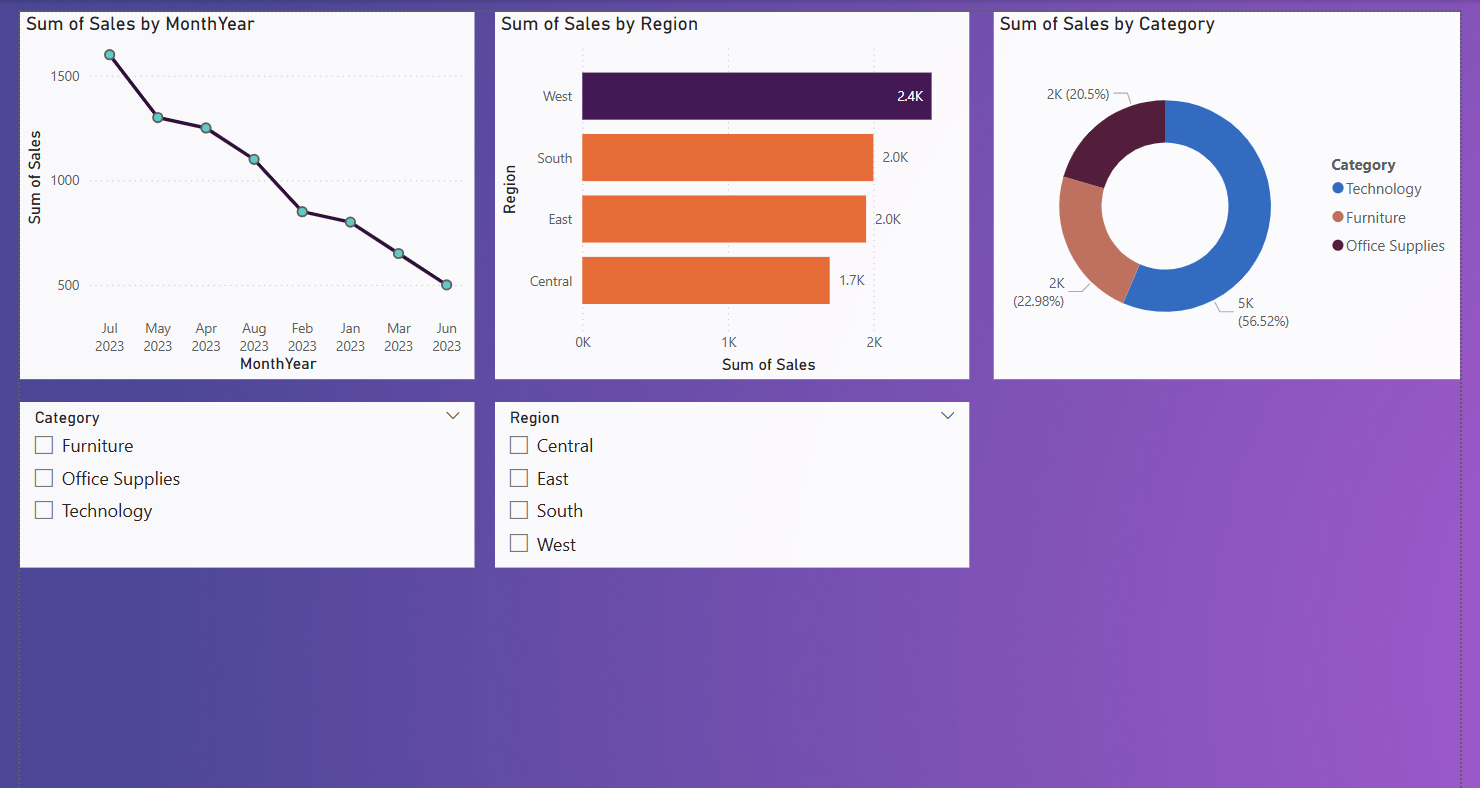

What the dashboard file says about the page in this screenshot:
{"tool":"powerbi","page":{"name":"Page 1","canvas":[1280,720],"ordinal":0},"visuals":[{"type":"lineChart","fields":{"Category":["Superstore_Sales.MonthYear"],"Y":["Sum(Superstore_Sales.Sales)"]},"box":[19.8,34.9,379.1,233.7],"z":0},{"type":"clusteredBarChart","fields":{"Category":["Superstore_Sales.Region"],"Y":["Sum(Superstore_Sales.Sales)"]},"box":[438.6,34.3,428.6,234.3],"z":1000},{"type":"donutChart","fields":{"Category":["Superstore_Sales.Category"],"Y":["Sum(Superstore_Sales.Sales)"]},"box":[907,34.9,361.6,233.7],"z":2000},{"type":"slicer","fields":{"Values":["Superstore_Sales.Region"]},"box":[742.9,465.7,454.3,242.9],"z":3000},{"type":"slicer","fields":{"Values":["Superstore_Sales.Category"]},"box":[84.3,465.7,454.3,242.9],"z":4000},{"type":"card","fields":{"Values":["Sum(Superstore_Sales.Profit)"]},"box":[63.5,281.6,280.5,173.7],"z":4001},{"type":"card","fields":{"Values":["Sum(Superstore_Sales.Sales)"]},"box":[957,281.4,281.4,174.4],"z":4002}]}

Visuals, with their boxes on the page's 1280x720 design canvas (x1, y1, x2, y2). These are canvas units, not pixel positions in the 1480x788 screenshot, which may show the page scaled, cropped or inside an application window:
lineChart - Superstore_Sales.MonthYear x Sum(Superstore_Sales.Sales): box(20, 35, 399, 269)
clusteredBarChart - Superstore_Sales.Region x Sum(Superstore_Sales.Sales): box(439, 34, 867, 269)
donutChart - Superstore_Sales.Category x Sum(Superstore_Sales.Sales): box(907, 35, 1269, 269)
slicer - Superstore_Sales.Region: box(743, 466, 1197, 709)
slicer - Superstore_Sales.Category: box(84, 466, 539, 709)
card - Sum(Superstore_Sales.Profit): box(64, 282, 344, 455)
card - Sum(Superstore_Sales.Sales): box(957, 281, 1238, 456)
